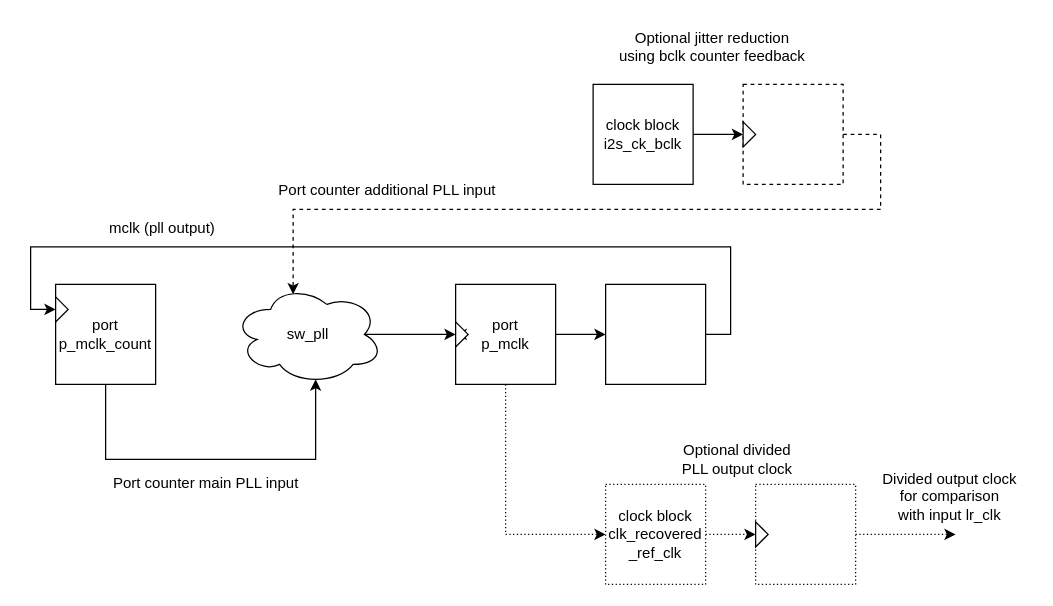
Image size: 1053x606. Some labels were removed from this diagram. The box of each missing label's shape, as (x1, y1, x2, y2) in pixels:
clock block clk_mclk: (604, 283, 706, 384)
dummy port p_bclk _count: (742, 83, 843, 184)
port p_ recovered _ref_clk: (754, 483, 856, 584)
